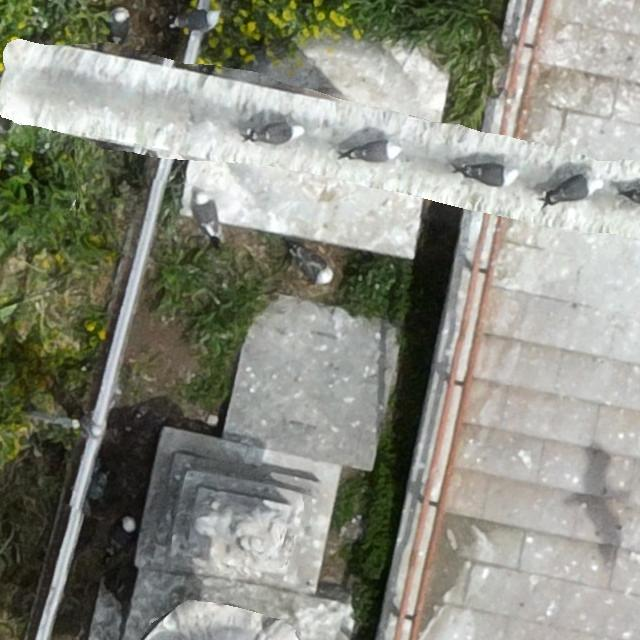umineko: (545, 173, 603, 207), (195, 192, 217, 234), (110, 516, 136, 550), (299, 257, 331, 283), (175, 11, 218, 30), (353, 141, 396, 160), (256, 125, 296, 144), (469, 164, 505, 183), (112, 10, 129, 42)
